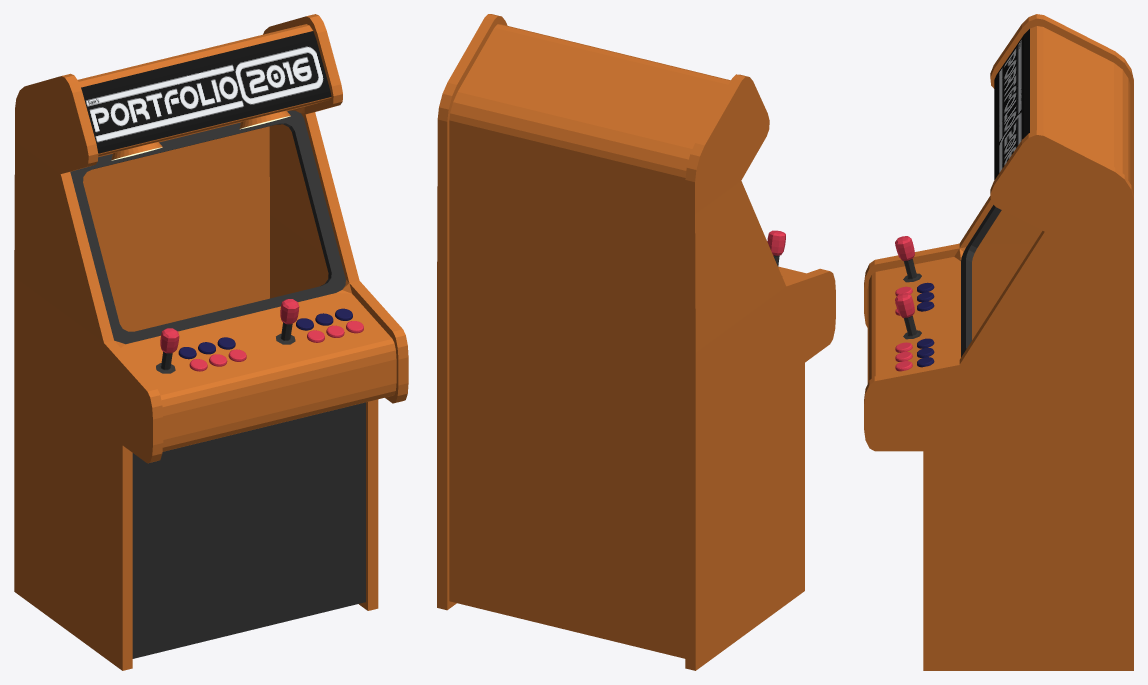
Rendered from arcade_cabinet.glb.
3 views of the same model, side by side, from view 1: azimuth 30°, elevation 25°; view 2: azimuth 150°, elevation 25°; view 3: azimuth 270°, elevation 25° (orthographic). The views are drawn at different scales.
Parts seen in each view (by area): view 1: Cabinet.001, RButtons.001, LButtons.001, LJoystick.stick.002, RJoystick.stick.001; view 2: Cabinet.001; view 3: Cabinet.001, LButtons.001, LJoystick.stick.002, RJoystick.stick.001, RButtons.001.
Part boxes in pixels (x1,y1,x2,y2): Cabinet.001: (14,14,408,670); RButtons.001: (178,337,246,371); LButtons.001: (296,308,363,342); LJoystick.stick.002: (160,328,179,369); RJoystick.stick.001: (280,299,299,340); Cabinet.001: (437,14,835,670); Cabinet.001: (864,14,1133,670); LButtons.001: (895,338,934,371); LJoystick.stick.002: (895,236,916,278); RJoystick.stick.001: (895,293,916,335); RButtons.001: (895,282,934,315).
Size of the model in its own units: 0.7543 by 1.55 by 0.7085.
Materials: 6 (1 with a texture image).
